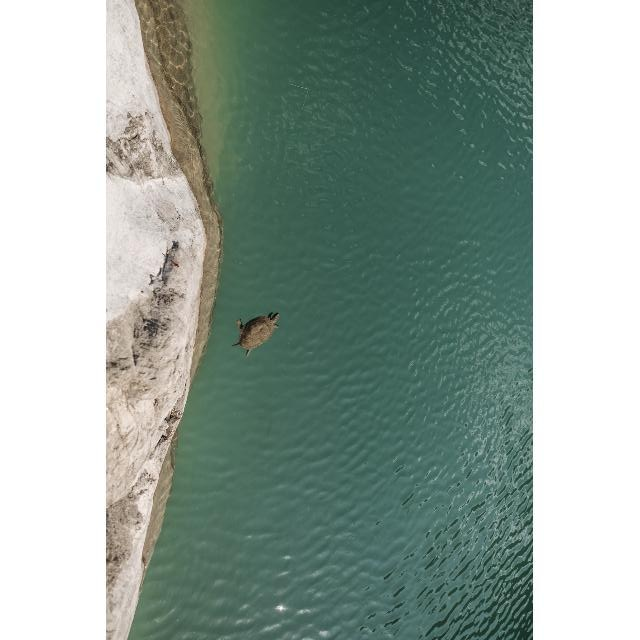turtle: (232, 311, 281, 356)
